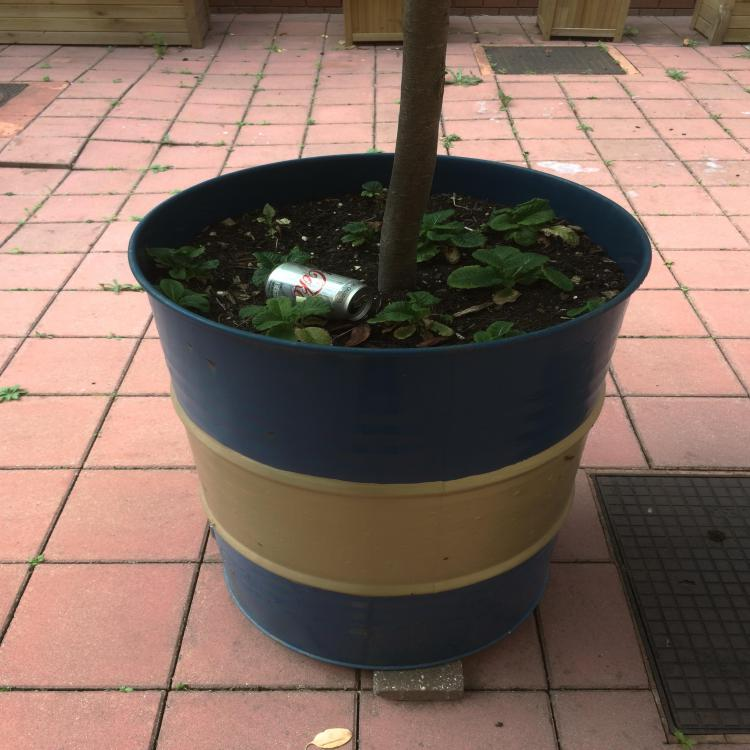Drink can: (265, 263, 373, 321)
Pop tab: (352, 294, 370, 309)
